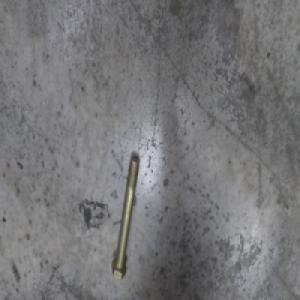Bolt: (112, 152, 141, 276)
